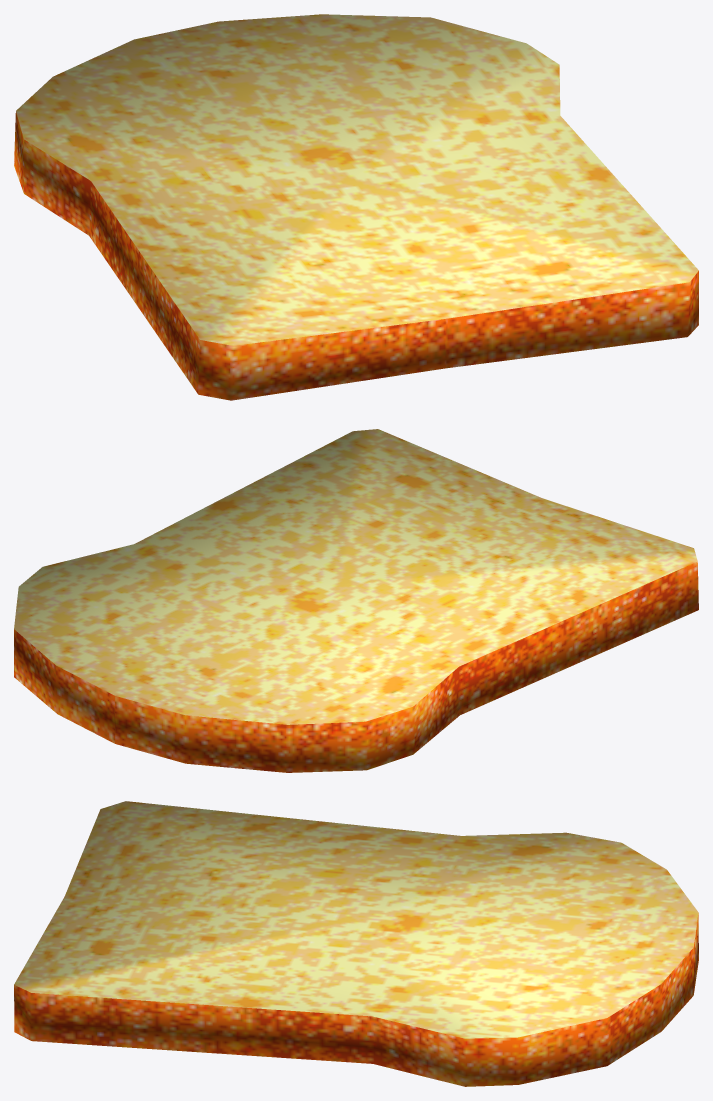
Rendered from VFX_SliceBread.fbx.
3 renders of one model, top to bottom at view 1: azimuth 30°, elevation 25°; view 2: azimuth 150°, elevation 25°; view 3: azimuth 270°, elevation 25°, orthographic. The views are drawn at different scales.
Parts seen in each view (by area): view 1: Bread Slice; view 2: Bread Slice; view 3: Bread Slice.
Boxes of the visible parts, x1,y1,x2,y2 form: Bread Slice: (14,14,698,400); Bread Slice: (14,429,698,772); Bread Slice: (14,801,698,1086).
Bounding box in the file's own units: 0.0964 × 0.00909 × 0.1171.
